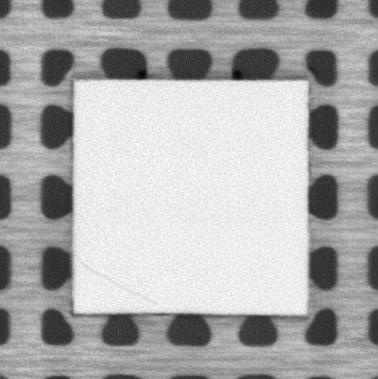DIE_CRACK: (80, 263, 160, 306)
